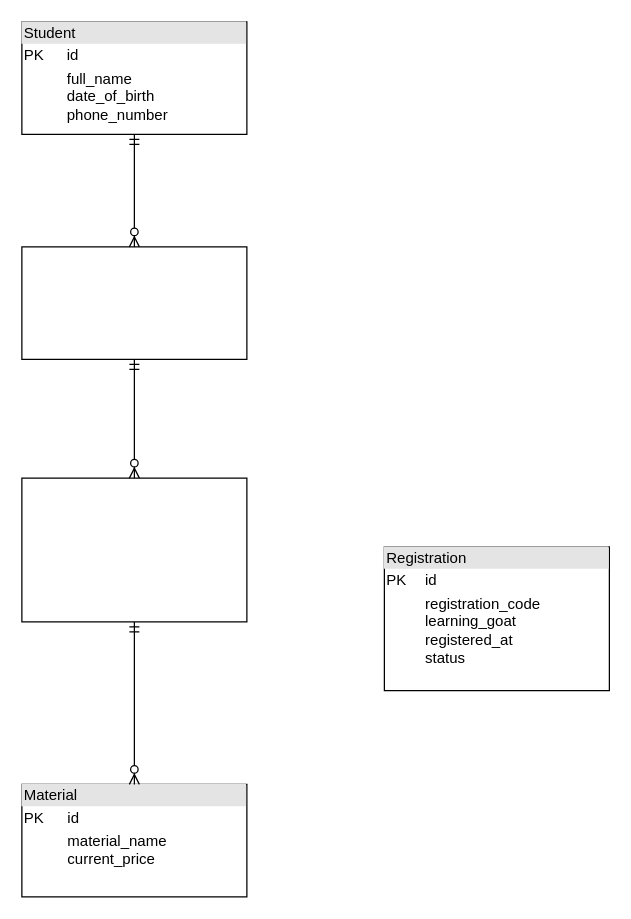
Some shapes in this 631 by 919 pixel diagram are drawn without their labels. The centre of each missing label's shape, as x and y in pixels:
"Course PK id course_name level tuition_fee" goes at [134,302].
"CourseClass PK id class_code start_date schedule room" goes at [134,549].
